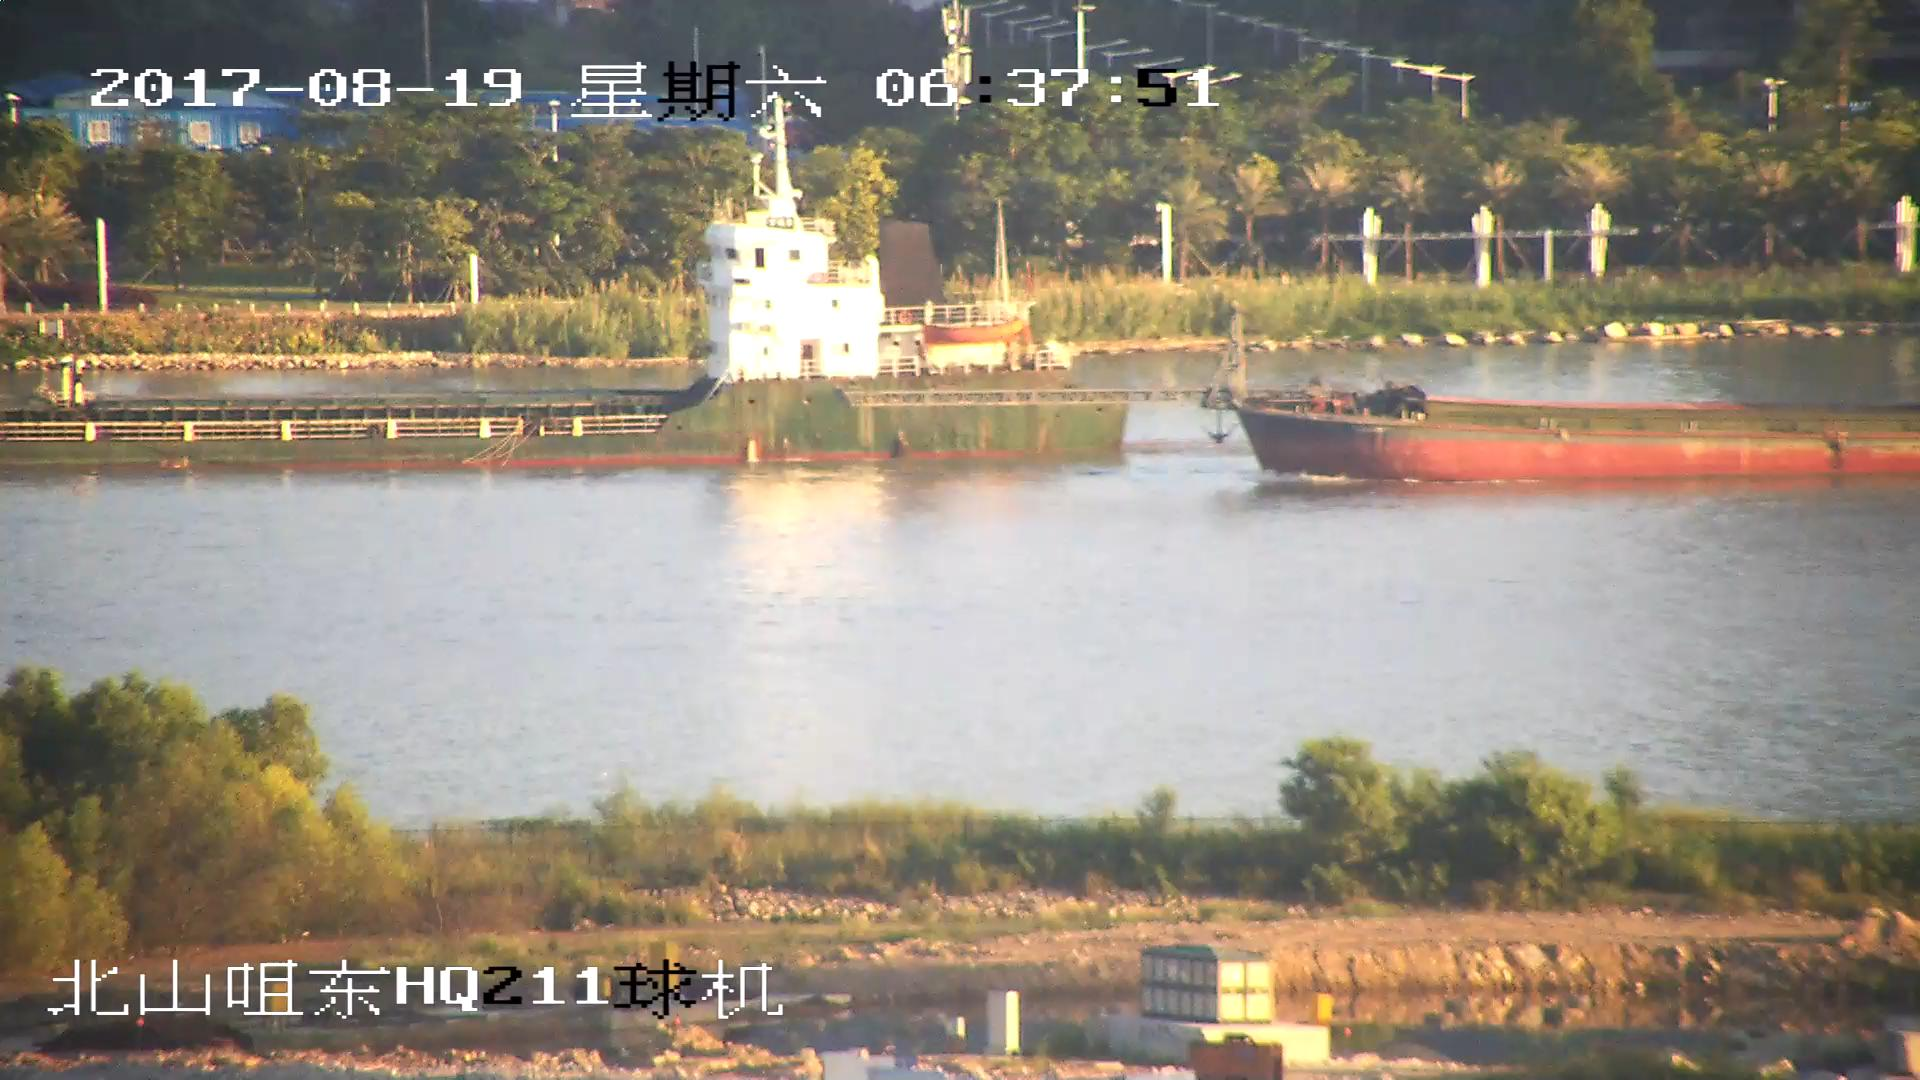bulk cargo carrier: (1138, 335, 1920, 486)
general cargo ship: (1, 158, 1128, 463)
